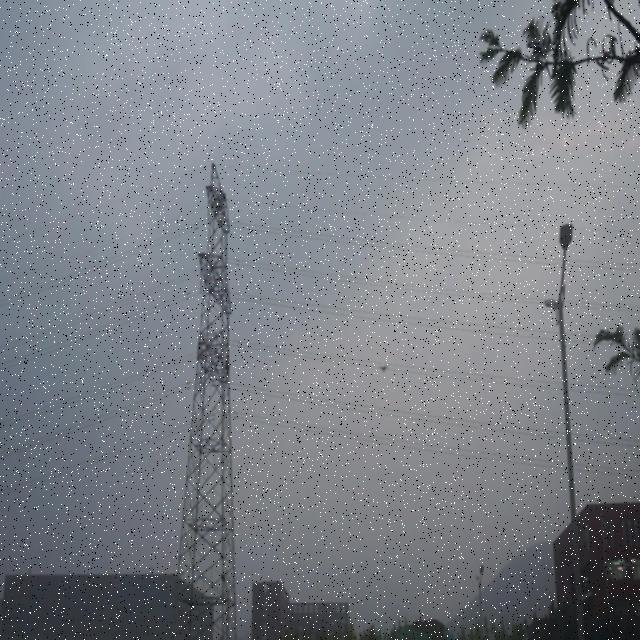UAV: (381, 366, 388, 374)
